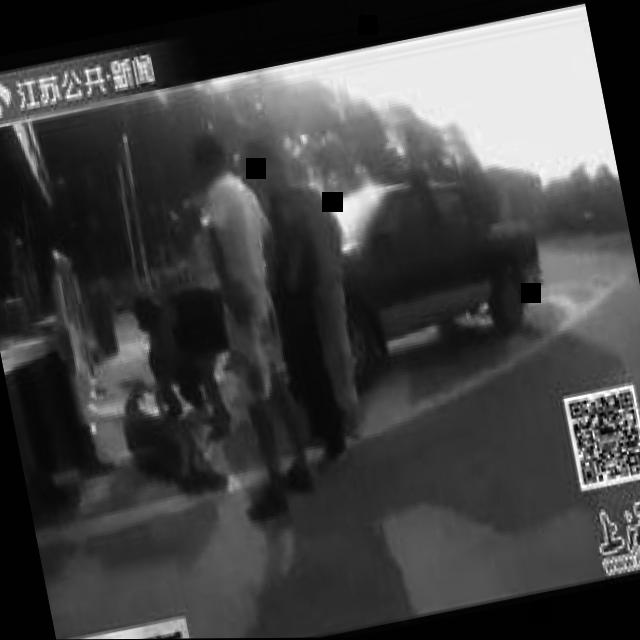Fall-Detected: (102, 358, 226, 515)
